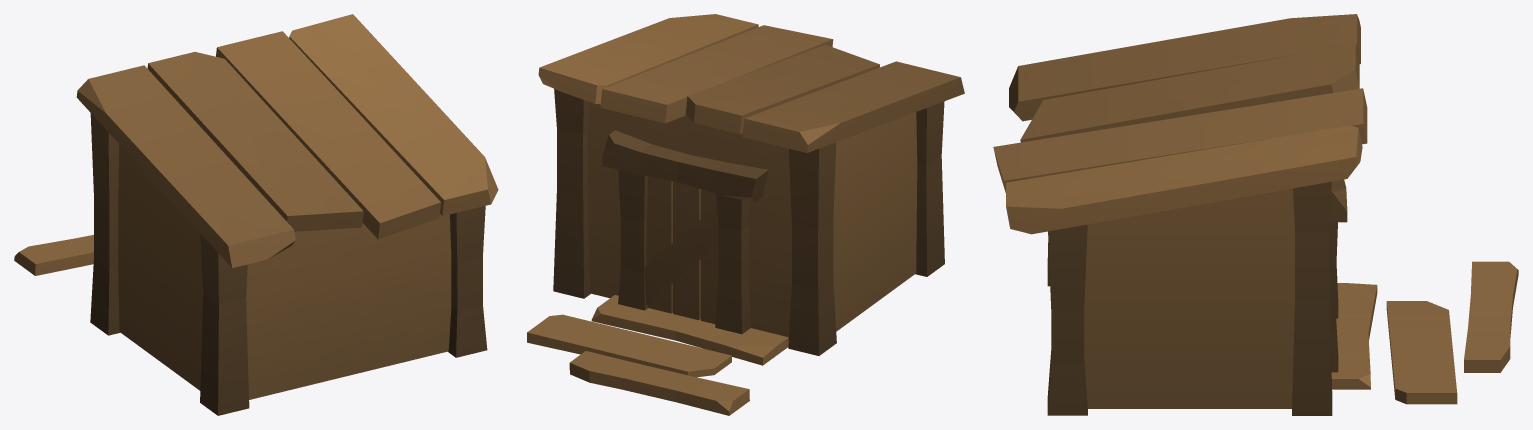
Rendered from Shed001.fbx.
The picture shows the model from 3 angles, left to right: view 1: azimuth 30°, elevation 25°; view 2: azimuth 150°, elevation 25°; view 3: azimuth 270°, elevation 25°; orthographic projection. The views are drawn at different scales.
Parts seen in each view (by area): view 1: Cube.036; view 2: Cube.036; view 3: Cube.036.
Part boxes in pixels (x1,y1,x2,y2): Cube.036: (14,14,498,415); Cube.036: (527,14,964,415); Cube.036: (993,14,1518,415).
Size of the model in its own units: 580 by 485 by 857.
